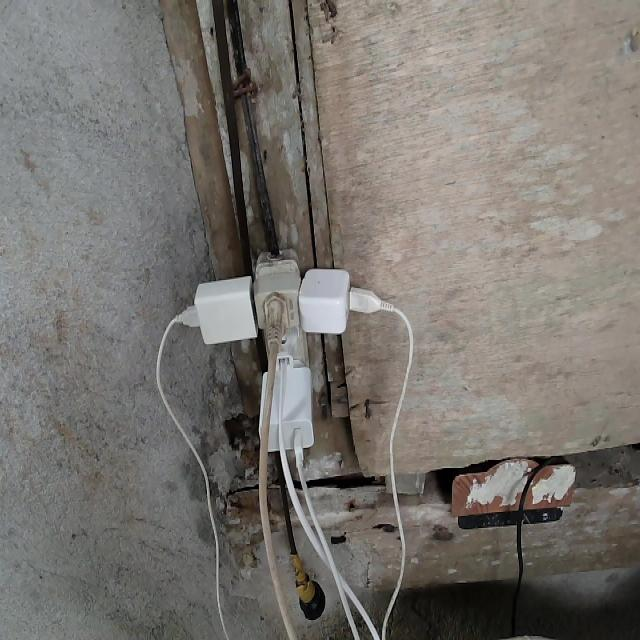-: (184, 255, 373, 452)
